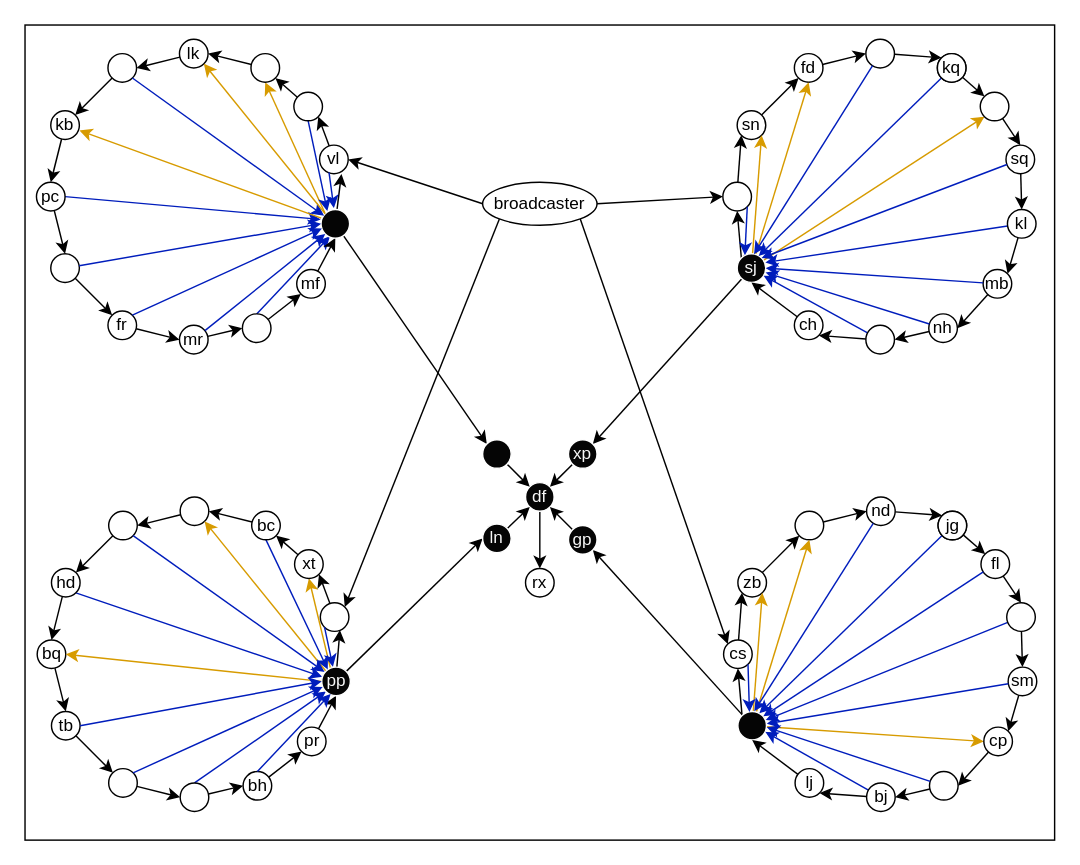
This 1080x865 diagram has some shape labels left out. Each missing label, with the box of its shape:
cn: (721, 181, 751, 211)
fq: (179, 781, 209, 812)
hc: (107, 52, 137, 82)
jd: (241, 312, 271, 342)
kk: (928, 770, 958, 800)
lv: (292, 91, 322, 121)
ml: (319, 601, 349, 631)
nb: (179, 495, 209, 526)
nf: (1005, 601, 1035, 631)
nt: (864, 38, 894, 68)
pk: (107, 767, 137, 797)
qj: (107, 510, 137, 540)
qq: (979, 91, 1009, 121)
rd: (250, 52, 280, 82)
rg: (736, 710, 766, 740)
rq: (864, 324, 894, 354)
rz: (49, 252, 79, 282)
vz: (794, 510, 824, 540)
xl: (481, 438, 511, 468)
zp: (320, 208, 350, 238)
